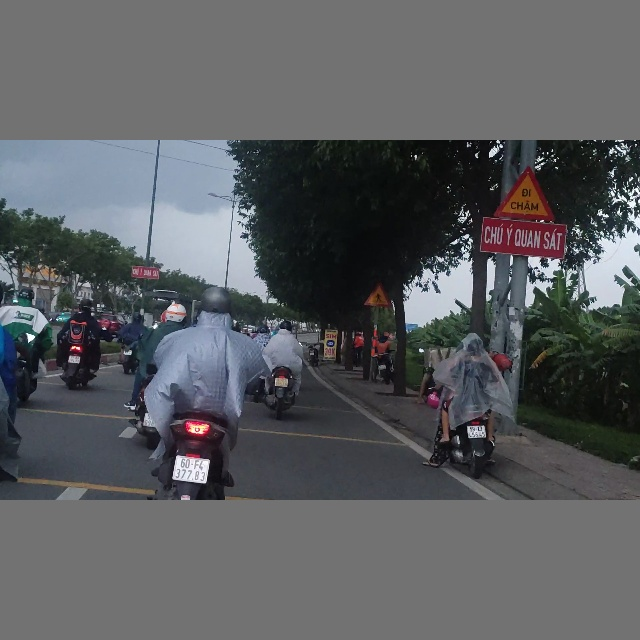W.224: (363, 282, 391, 307)
W.245a: (494, 165, 555, 221)
